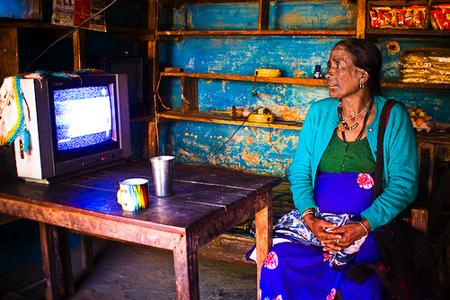person: (260, 37, 418, 300)
